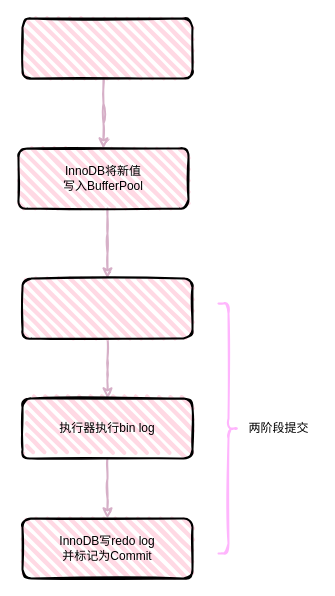
This 335x596 diagram has some shape labels left out. The shapes that lost their labels are listed below. From the top down, each one's centre as x and y in pixels, then its label:
At (107,48): "InnoDB将旧值 写入undo log".
At (107,308): "InnoDB写redo log 并标记为Prepare".
